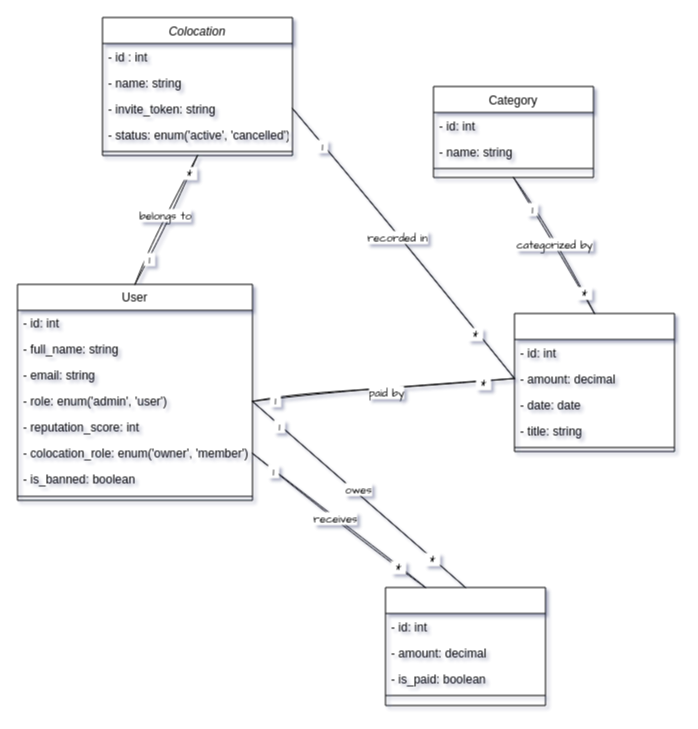
Image size: 698x729. Some labels were removed from this diagram. The box of each missing label's shape, as (x1, y1, x2, y2) in pixels:
Expence: (514, 312, 674, 452)
Settlement: (384, 586, 546, 706)
